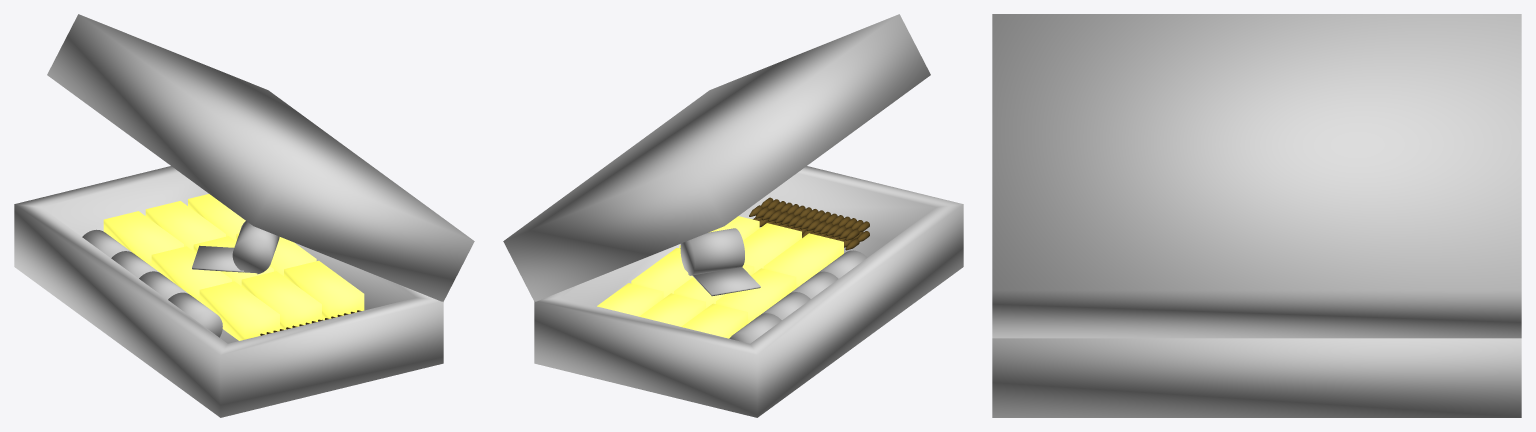
Rendered from 战利品箱.fbx.
3 renders of one model, left to right at view 1: azimuth 30°, elevation 25°; view 2: azimuth 150°, elevation 25°; view 3: azimuth 270°, elevation 25°, orthographic. The views are drawn at different scales.
Parts seen in each view (by area): view 1: 柱体; view 2: 柱体; view 3: 柱体.
Boxes of the visible parts, box(x1,y1,x2,y2) form: 柱体: box(14, 14, 474, 417); 柱体: box(503, 14, 963, 417); 柱体: box(992, 14, 1521, 417).
Size of the model in its own units: 316 by 282 by 444.
